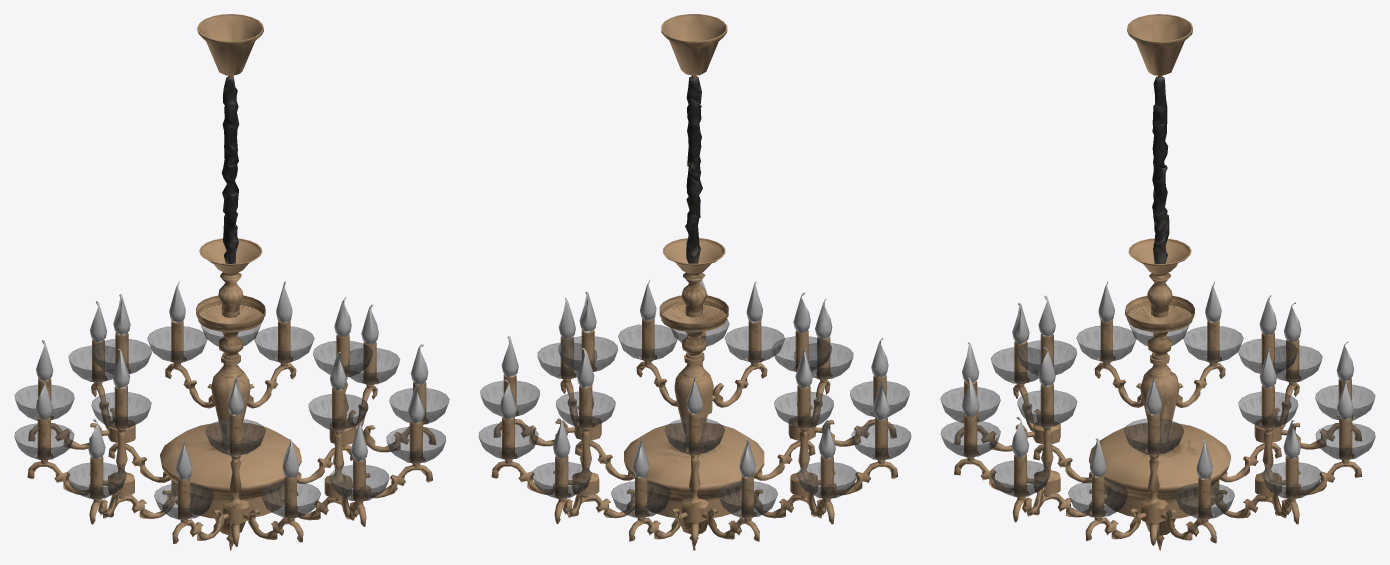
The model's file is Chandelier_03.glb.
3 views of the same model, side by side, from view 1: azimuth 30°, elevation 25°; view 2: azimuth 150°, elevation 25°; view 3: azimuth 270°, elevation 25° (orthographic).
Parts seen in each view (by area): view 1: Chandelier_03; view 2: Chandelier_03; view 3: Chandelier_03.
Part boxes in pixels (bbox=[...]): Chandelier_03: bbox=[14, 14, 449, 550]; Chandelier_03: bbox=[478, 14, 911, 550]; Chandelier_03: bbox=[940, 14, 1375, 550].
Size of the model in its own units: 0.7804 by 1.04 by 0.7853.
2 materials, 2 textured.
